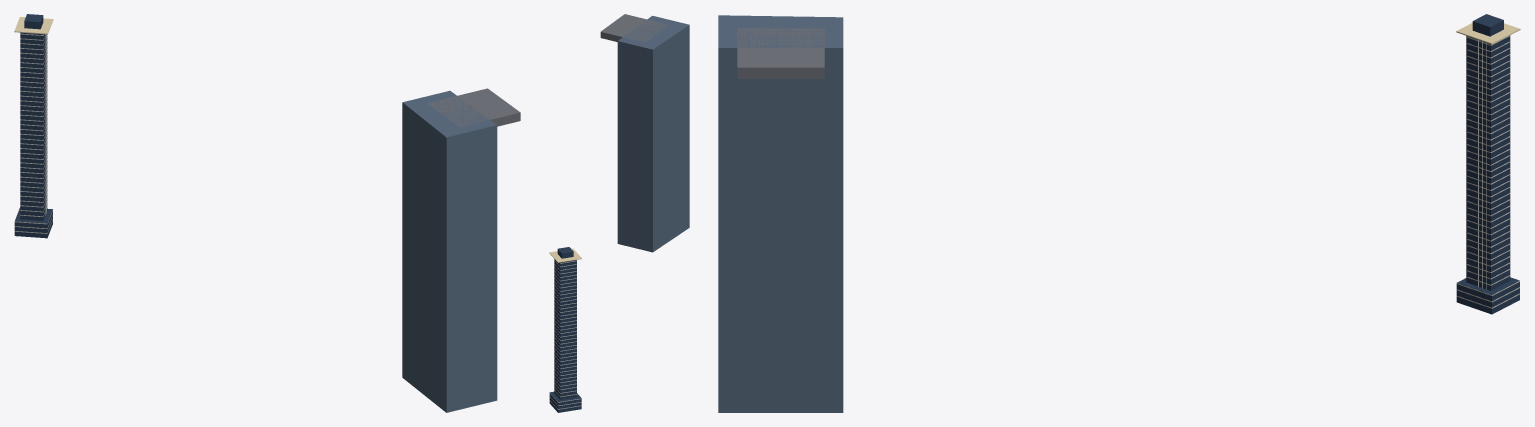
The model's file is mbk-tower.glb.
The picture shows the model from 3 angles, left to right: view 1: azimuth 30°, elevation 25°; view 2: azimuth 150°, elevation 25°; view 3: azimuth 270°, elevation 25°; orthographic projection. The views are drawn at different scales.
Parts seen in each view (by area): view 1: vision_slab_-1, B_532853124_mbk-tower, vision_crown; view 2: vision_slab_-1, B_532853124_mbk-tower, vision_crown, B_532853124_mbk-tower_gold; view 3: vision_slab_-1, B_532853124_mbk-tower, vision_crown.
Boxes of the visible parts, x1,y1,x2,y2 form: vision_slab_-1: [402, 90, 497, 412]; B_532853124_mbk-tower: [14, 14, 52, 238]; vision_crown: [427, 88, 520, 126]; vision_slab_-1: [617, 15, 689, 252]; B_532853124_mbk-tower: [549, 247, 581, 412]; vision_crown: [600, 14, 668, 42]; B_532853124_mbk-tower_gold: [549, 248, 581, 262]; vision_slab_-1: [718, 15, 843, 412]; B_532853124_mbk-tower: [1456, 14, 1519, 314]; vision_crown: [737, 28, 824, 78].
Size of the model in its own units: 221 by 260 by 518.
